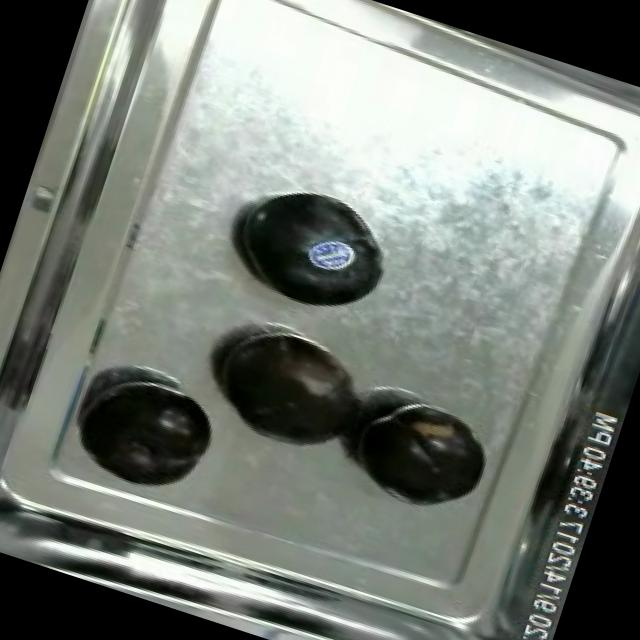Fruit: (217, 170, 405, 332), (197, 314, 367, 461), (339, 385, 504, 529), (67, 362, 228, 506)
